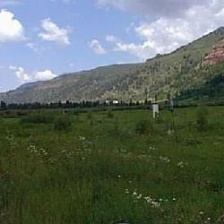neutral: (1, 1, 221, 223)
